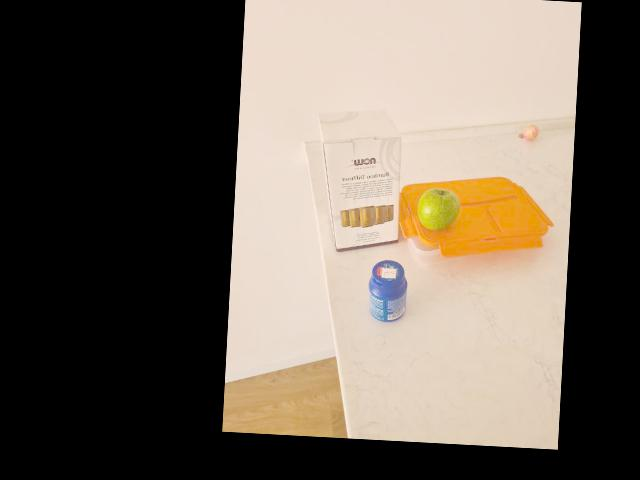apple: (412, 185, 459, 232)
